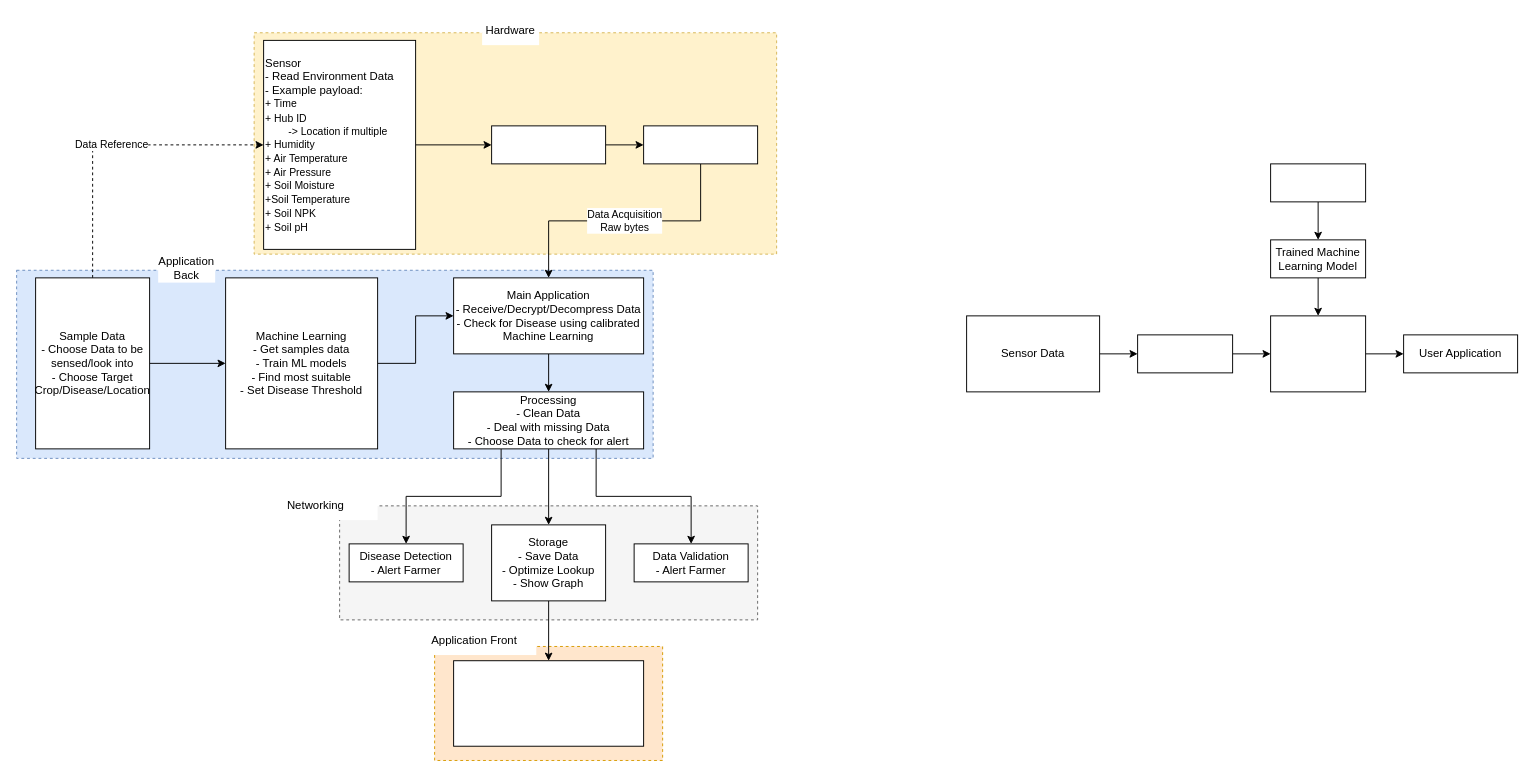
Some shapes in this 1534 by 777 pixel diagram are drawn without their labels. The shapes that lost their labels are listed below. From the top down, each one's centre as x and y in pixels, then its label:
At point 548,144: "Radio".
At point 700,144: "Central Receiver System".
At point 1318,182: "Sample Data".
At point 1185,353: "Communication Proxy".
At point 1318,353: "Machine Learning Central System".
At point 548,703: "GUI - Show Recent Data (w/ Graph - Show Alert/Warning - Alert Notification".
